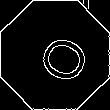O_NW: (23, 25, 87, 85)
